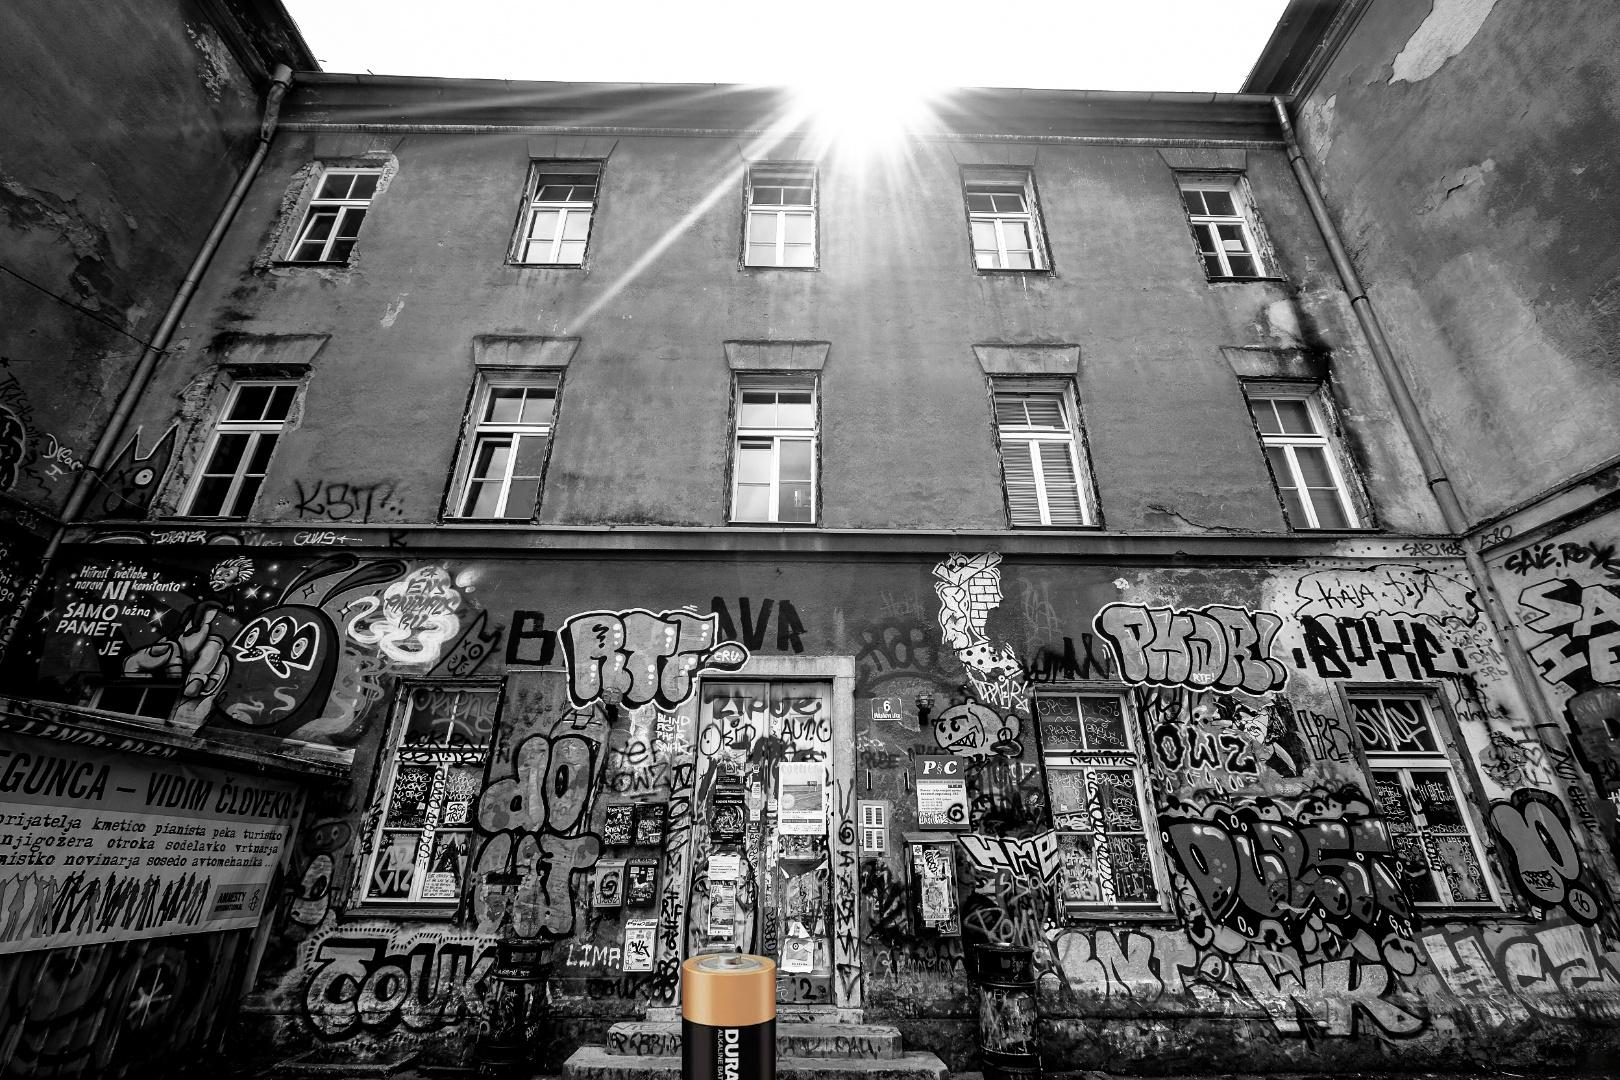battery: (679, 950, 779, 1080)
penholder: (485, 990, 1620, 1080)
